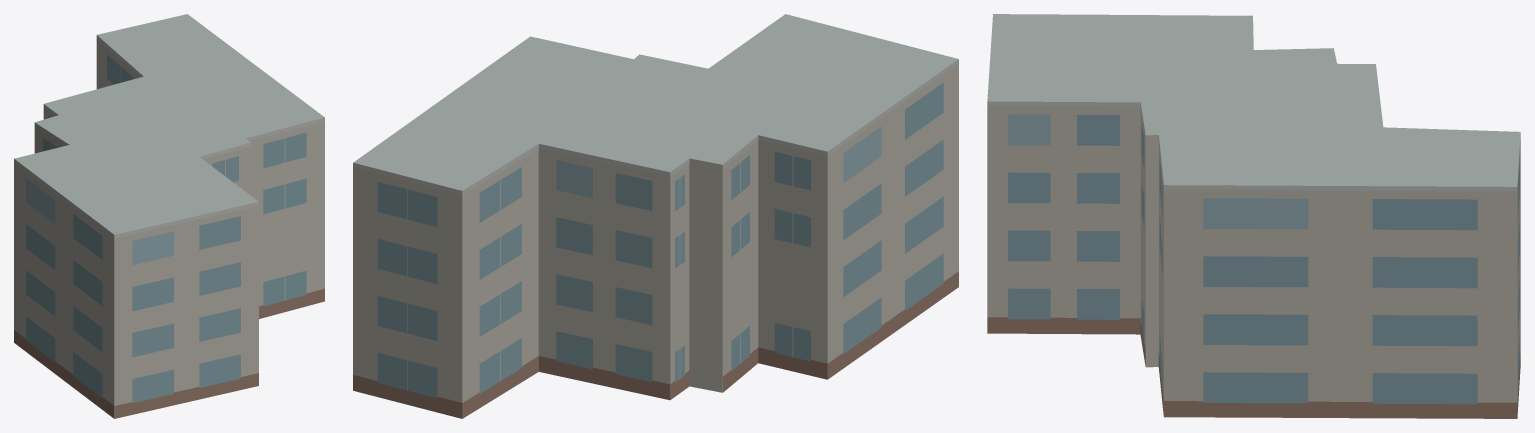
Rendered from survey-upis-32731570.glb.
The picture shows the model from 3 angles, left to right: view 1: azimuth 30°, elevation 25°; view 2: azimuth 150°, elevation 25°; view 3: azimuth 270°, elevation 25°; orthographic projection. The views are drawn at different scales.
Parts seen in each view (by area): view 1: survey-upis-32731570.tmp; view 2: survey-upis-32731570.tmp; view 3: survey-upis-32731570.tmp.
Part boxes in pixels (<box>): survey-upis-32731570.tmp: <box>14,14,324,418</box>; survey-upis-32731570.tmp: <box>353,14,958,418</box>; survey-upis-32731570.tmp: <box>987,14,1520,418</box>.
Size of the model in its own units: 19.5 by 12.2 by 25.42.
